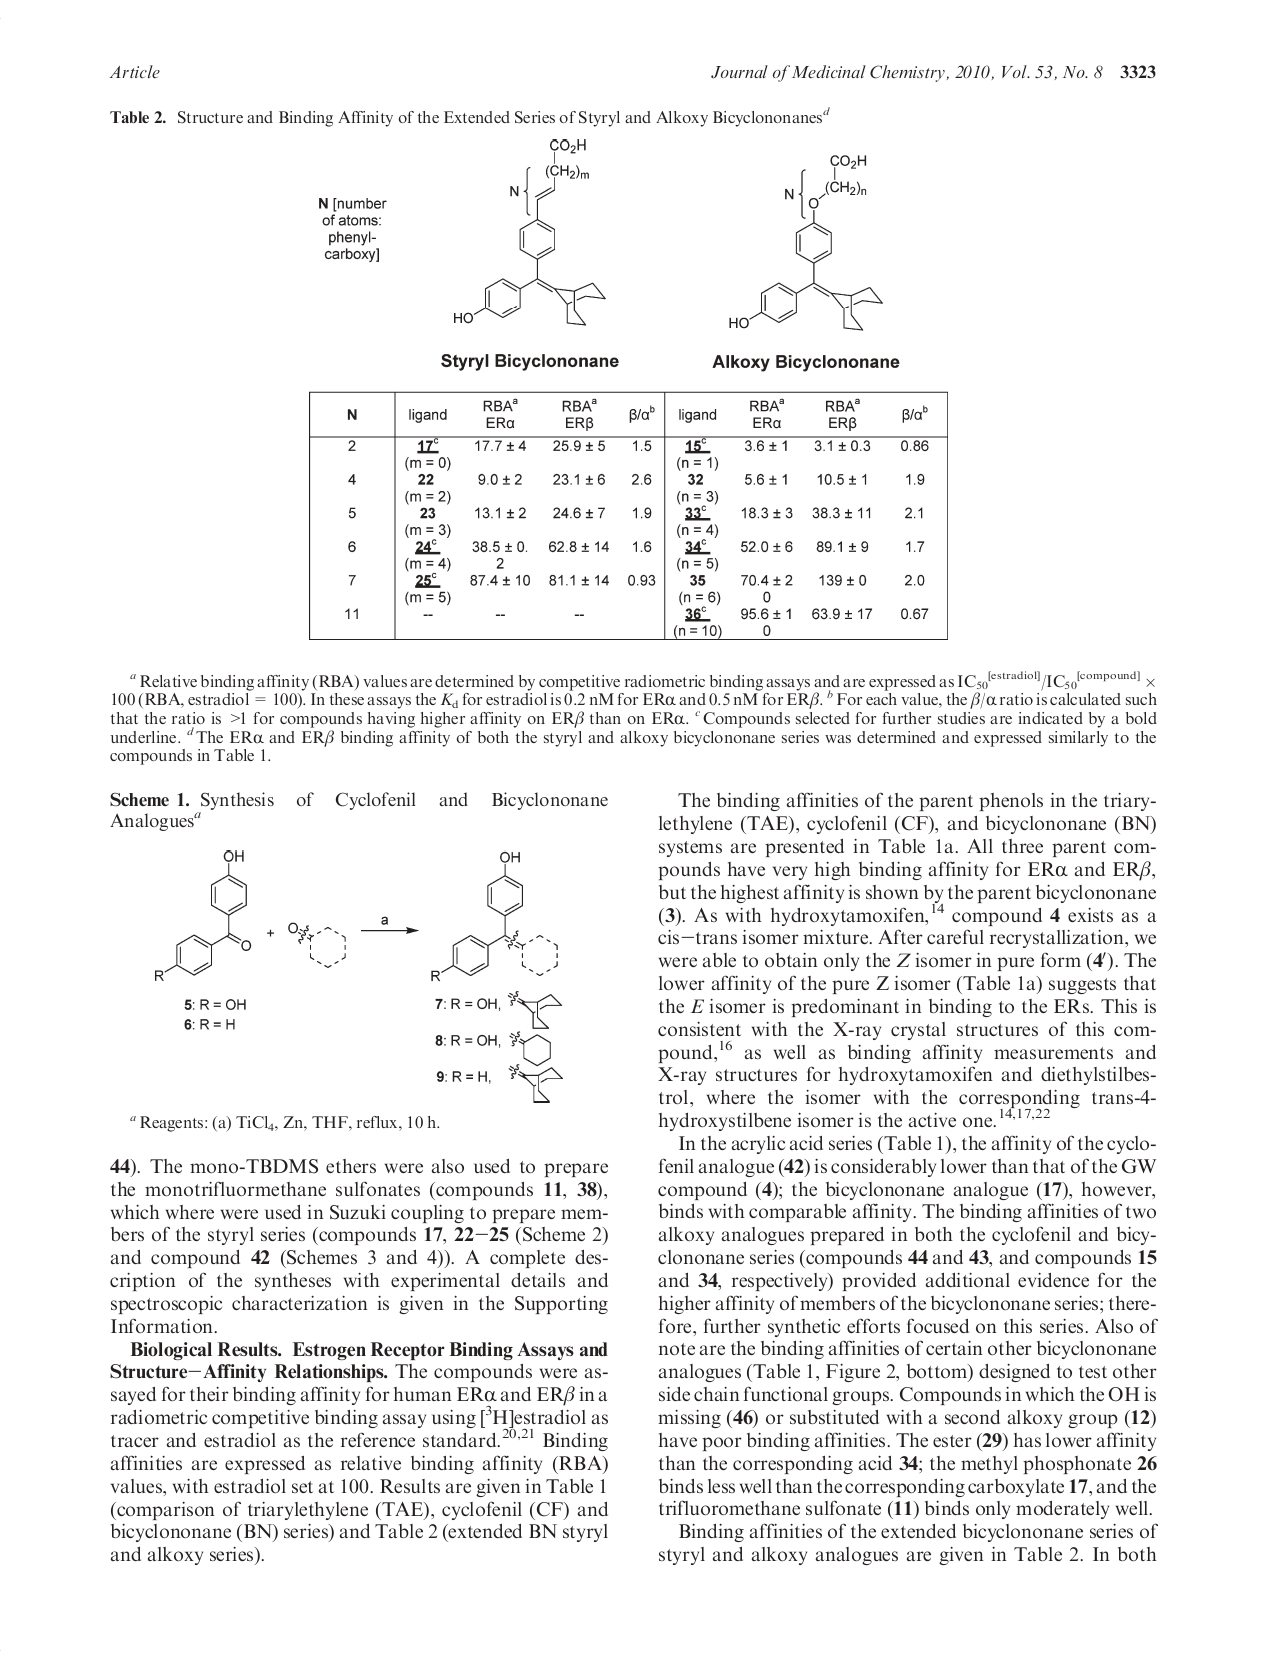exist_molecular: (430, 844, 572, 1109), (453, 133, 614, 346), (727, 144, 884, 332), (140, 842, 262, 985)
